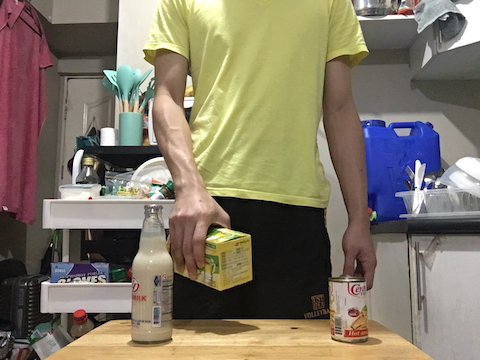bottle: (126, 201, 182, 347)
box: (184, 227, 256, 292)
can: (325, 272, 373, 346)
